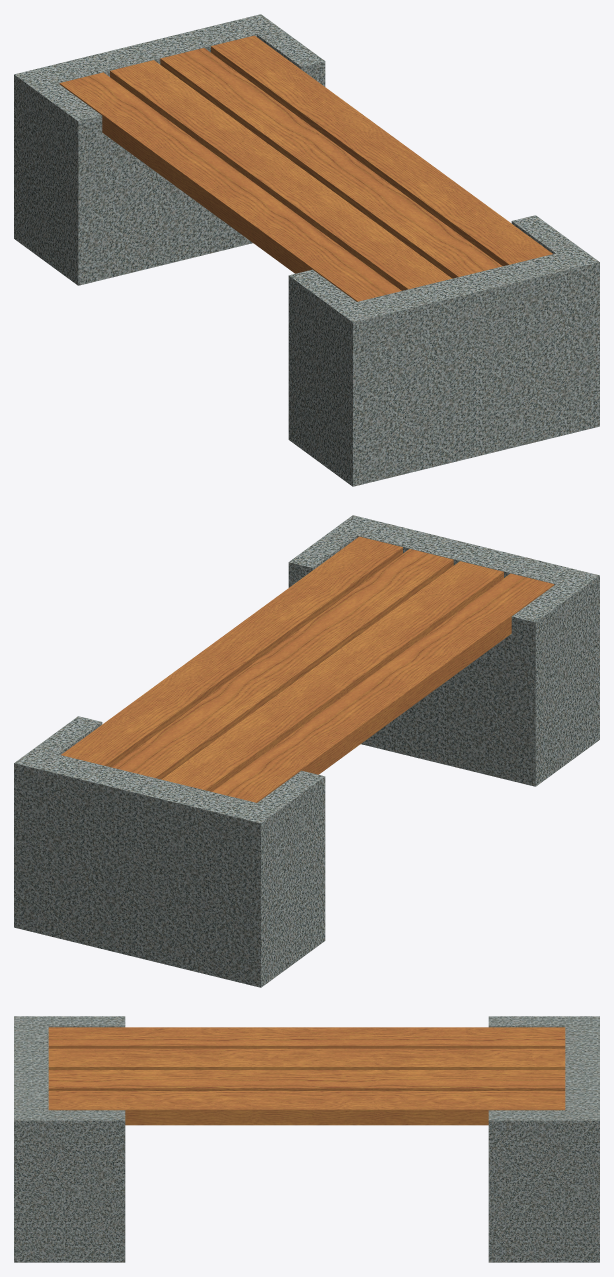
File: bench.glb
The picture shows the model from 3 angles, top to bottom: view 1: azimuth 30°, elevation 25°; view 2: azimuth 150°, elevation 25°; view 3: azimuth 270°, elevation 25°; orthographic projection. The views are drawn at different scales.
Visible parts, largest first — view 1: Block_0, Planks_1; view 2: Block_0, Planks_1; view 3: Planks_1, Block_0.
Boxes of the visible parts, x1=… form: Block_0: x1=14, y1=14, x2=599, y2=486; Planks_1: x1=59, y1=35, x2=552, y2=301; Block_0: x1=14, y1=515, x2=599, y2=987; Planks_1: x1=61, y1=536, x2=554, y2=802; Planks_1: x1=48, y1=1027, x2=565, y2=1125; Block_0: x1=14, y1=1016, x2=599, y2=1262.
Size of the model in its own units: 1.42 by 0.903 by 3.38.
2 materials, 2 textured.
